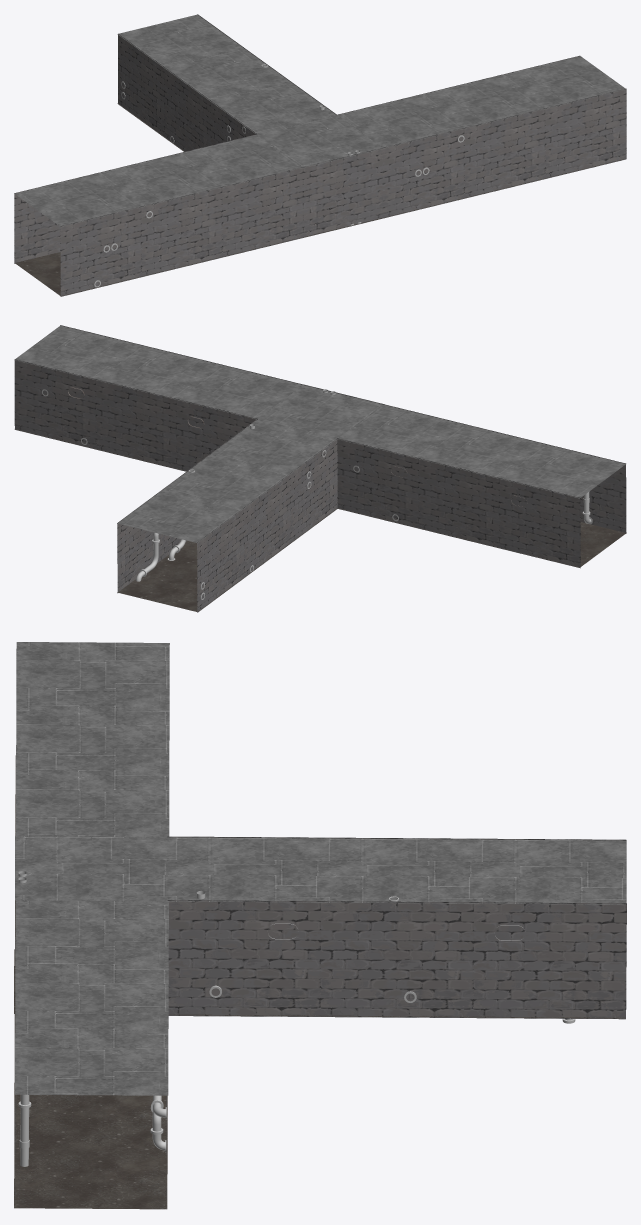
Rendered from oda2.fbx.
3 renders of one model, top to bottom at view 1: azimuth 30°, elevation 25°; view 2: azimuth 150°, elevation 25°; view 3: azimuth 270°, elevation 25°, orthographic. The views are drawn at different scales.
Visible parts, largest first — view 1: oda1; view 2: oda1; view 3: oda1.
Boxes of the visible parts, x1,y1,x2,y2 form: oda1: (14,14,626,296); oda1: (14,325,626,612); oda1: (14,642,626,1209).
Size of the model in its own units: 1678 by 219 by 960.
